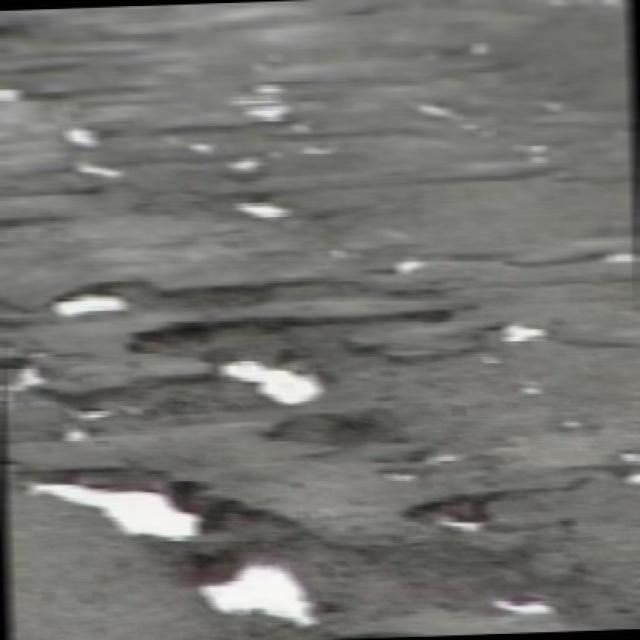Pothole: (126, 306, 360, 416), (19, 454, 262, 544), (48, 268, 390, 324), (398, 466, 576, 544), (179, 546, 327, 630), (255, 406, 416, 450), (485, 573, 582, 640), (361, 290, 497, 332), (207, 185, 311, 226), (231, 72, 302, 132), (407, 95, 494, 142), (56, 151, 140, 195), (478, 319, 554, 349), (176, 134, 220, 166), (58, 120, 107, 146), (221, 150, 268, 177), (286, 139, 340, 162), (590, 242, 640, 266), (394, 249, 428, 279)
